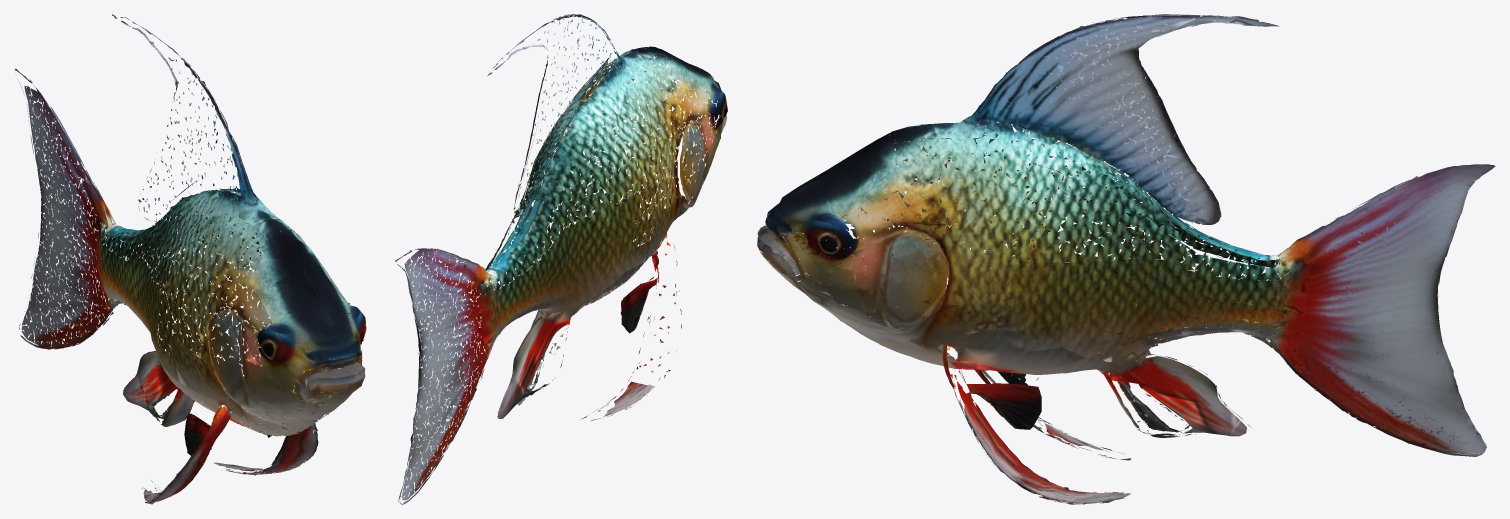
The model's file is fish_1790371366_10277588.glb.
The picture shows the model from 3 angles, left to right: view 1: azimuth 30°, elevation 25°; view 2: azimuth 150°, elevation 25°; view 3: azimuth 270°, elevation 25°; orthographic projection. The views are drawn at different scales.
Parts seen in each view (by area): view 1: Hero; view 2: Hero; view 3: Hero.
Boxes of the visible parts, box(x1,y1,x2,y2) form: Hero: box(15, 14, 366, 504); Hero: box(395, 14, 727, 504); Hero: box(757, 14, 1495, 504).
Bounding box in the file's own units: 0.2091 × 0.5551 × 0.7995.
Materials: 1 (1 with a texture image).
